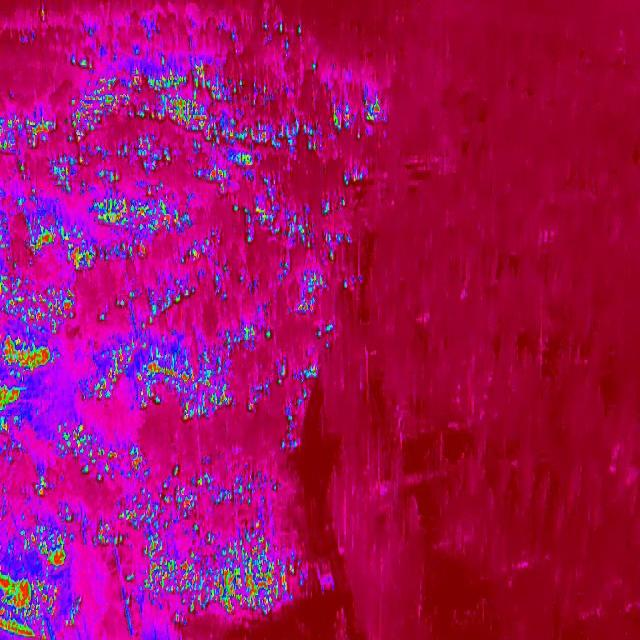fire: (66, 51, 398, 191), (94, 527, 306, 619), (77, 338, 235, 424), (0, 528, 66, 638), (56, 423, 145, 488), (84, 188, 196, 238), (0, 330, 49, 432), (110, 476, 209, 526), (246, 360, 324, 416), (0, 274, 76, 328), (16, 226, 98, 274), (13, 150, 95, 194), (0, 106, 62, 156), (116, 288, 192, 326), (287, 268, 330, 318), (238, 318, 274, 344), (244, 205, 279, 227), (184, 239, 210, 262), (31, 473, 52, 499), (38, 6, 48, 23)
